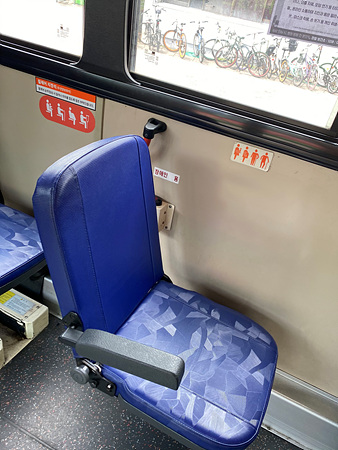seat: (35, 133, 278, 445)
